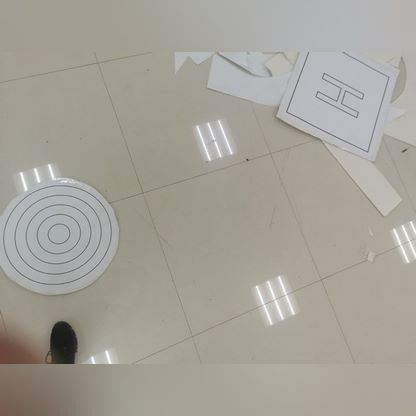H: (288, 50, 393, 148)
circle: (0, 180, 120, 296)
